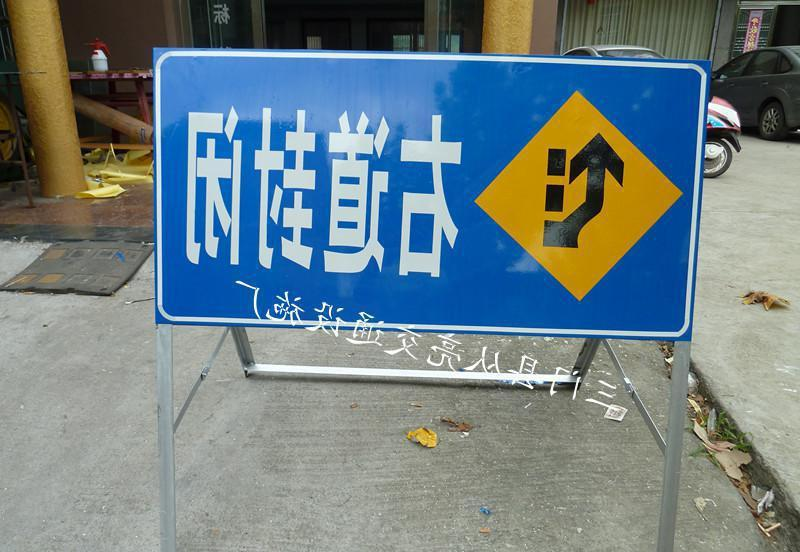sign: (155, 58, 705, 337)
